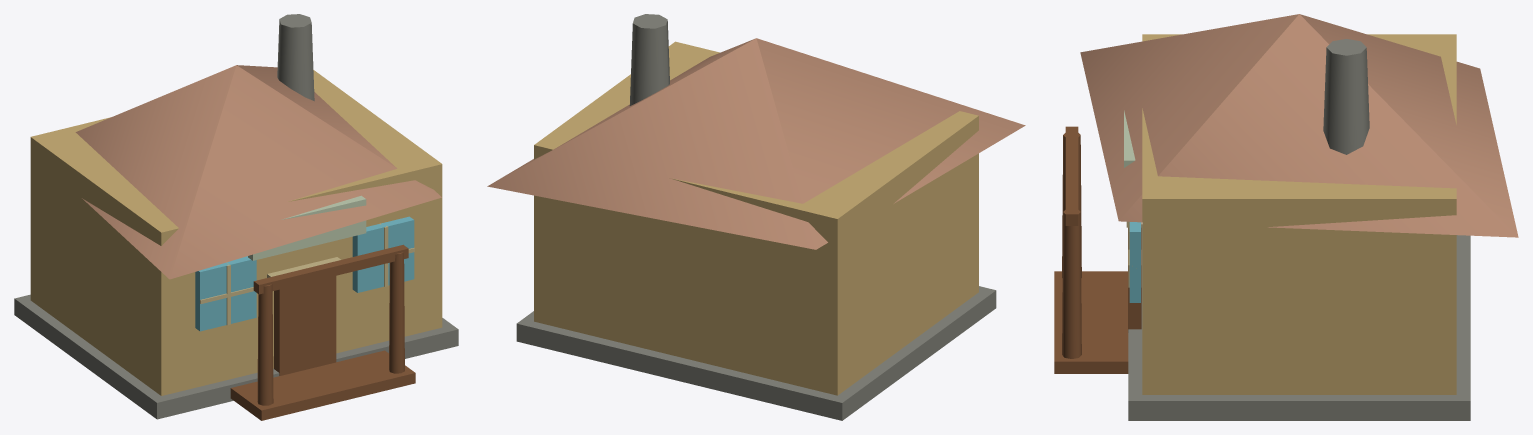
File: bakery.glb
3 renders of one model, left to right at view 1: azimuth 30°, elevation 25°; view 2: azimuth 150°, elevation 25°; view 3: azimuth 270°, elevation 25°, orthographic. The views are drawn at different scales.
Visible parts, largest first — view 1: bakery_body, bakery_roof, bakery_foundation, porch, door, window_left, chimney, window_right, porch_beam, porch_post_145, porch_post_-145, sign; view 2: bakery_body, bakery_roof, bakery_foundation, chimney; view 3: bakery_body, bakery_roof, bakery_foundation, porch, chimney, porch_post_145, porch_beam, window_right, porch_post_-145, door.
Part boxes in pixels (x1,y1,x2,y2): bakery_body: [30, 70, 442, 395]; bakery_roof: [75, 65, 441, 279]; bakery_foundation: [14, 294, 458, 419]; porch: [230, 350, 415, 420]; door: [274, 276, 336, 375]; window_left: [195, 256, 256, 331]; chimney: [277, 14, 314, 101]; window_right: [352, 216, 414, 292]; porch_beam: [253, 244, 408, 294]; porch_post_145: [389, 252, 404, 373]; porch_post_-145: [257, 284, 273, 405]; sign: [248, 195, 366, 260]; bakery_body: [534, 41, 978, 395]; bakery_roof: [487, 38, 1025, 249]; bakery_foundation: [516, 286, 996, 420]; chimney: [629, 14, 669, 105]; bakery_body: [1142, 34, 1456, 394]; bakery_roof: [1080, 14, 1518, 237]; bakery_foundation: [1128, 224, 1470, 420]; porch: [1054, 271, 1128, 373]; chimney: [1323, 39, 1369, 154]; porch_post_145: [1062, 210, 1081, 358]; porch_beam: [1065, 126, 1078, 225]; window_right: [1129, 222, 1140, 302]; porch_post_-145: [1062, 133, 1081, 277]; door: [1128, 228, 1141, 332].
Size of what is drawn, in the model's own units: 6.97 by 5.83 by 7.39.
